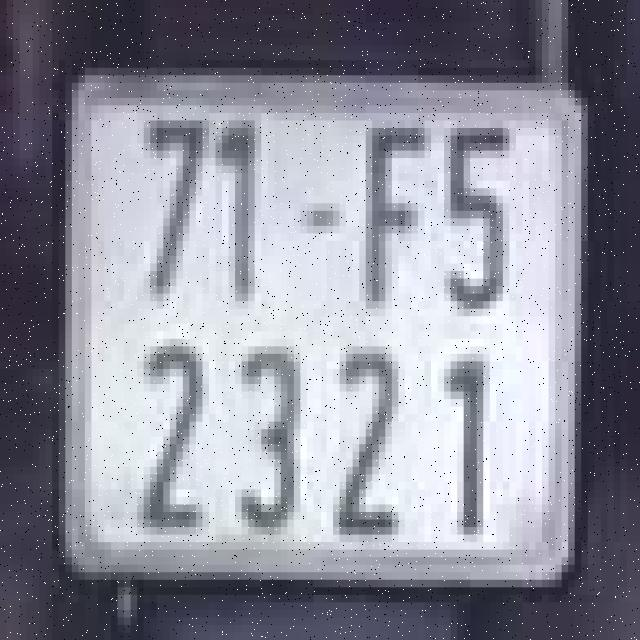1: (438, 346, 497, 550), (212, 109, 264, 313)
2: (124, 327, 216, 531), (329, 335, 402, 553)
3: (222, 331, 307, 542)
5: (437, 117, 516, 320)
7: (130, 106, 216, 302)
F: (350, 113, 434, 316)
